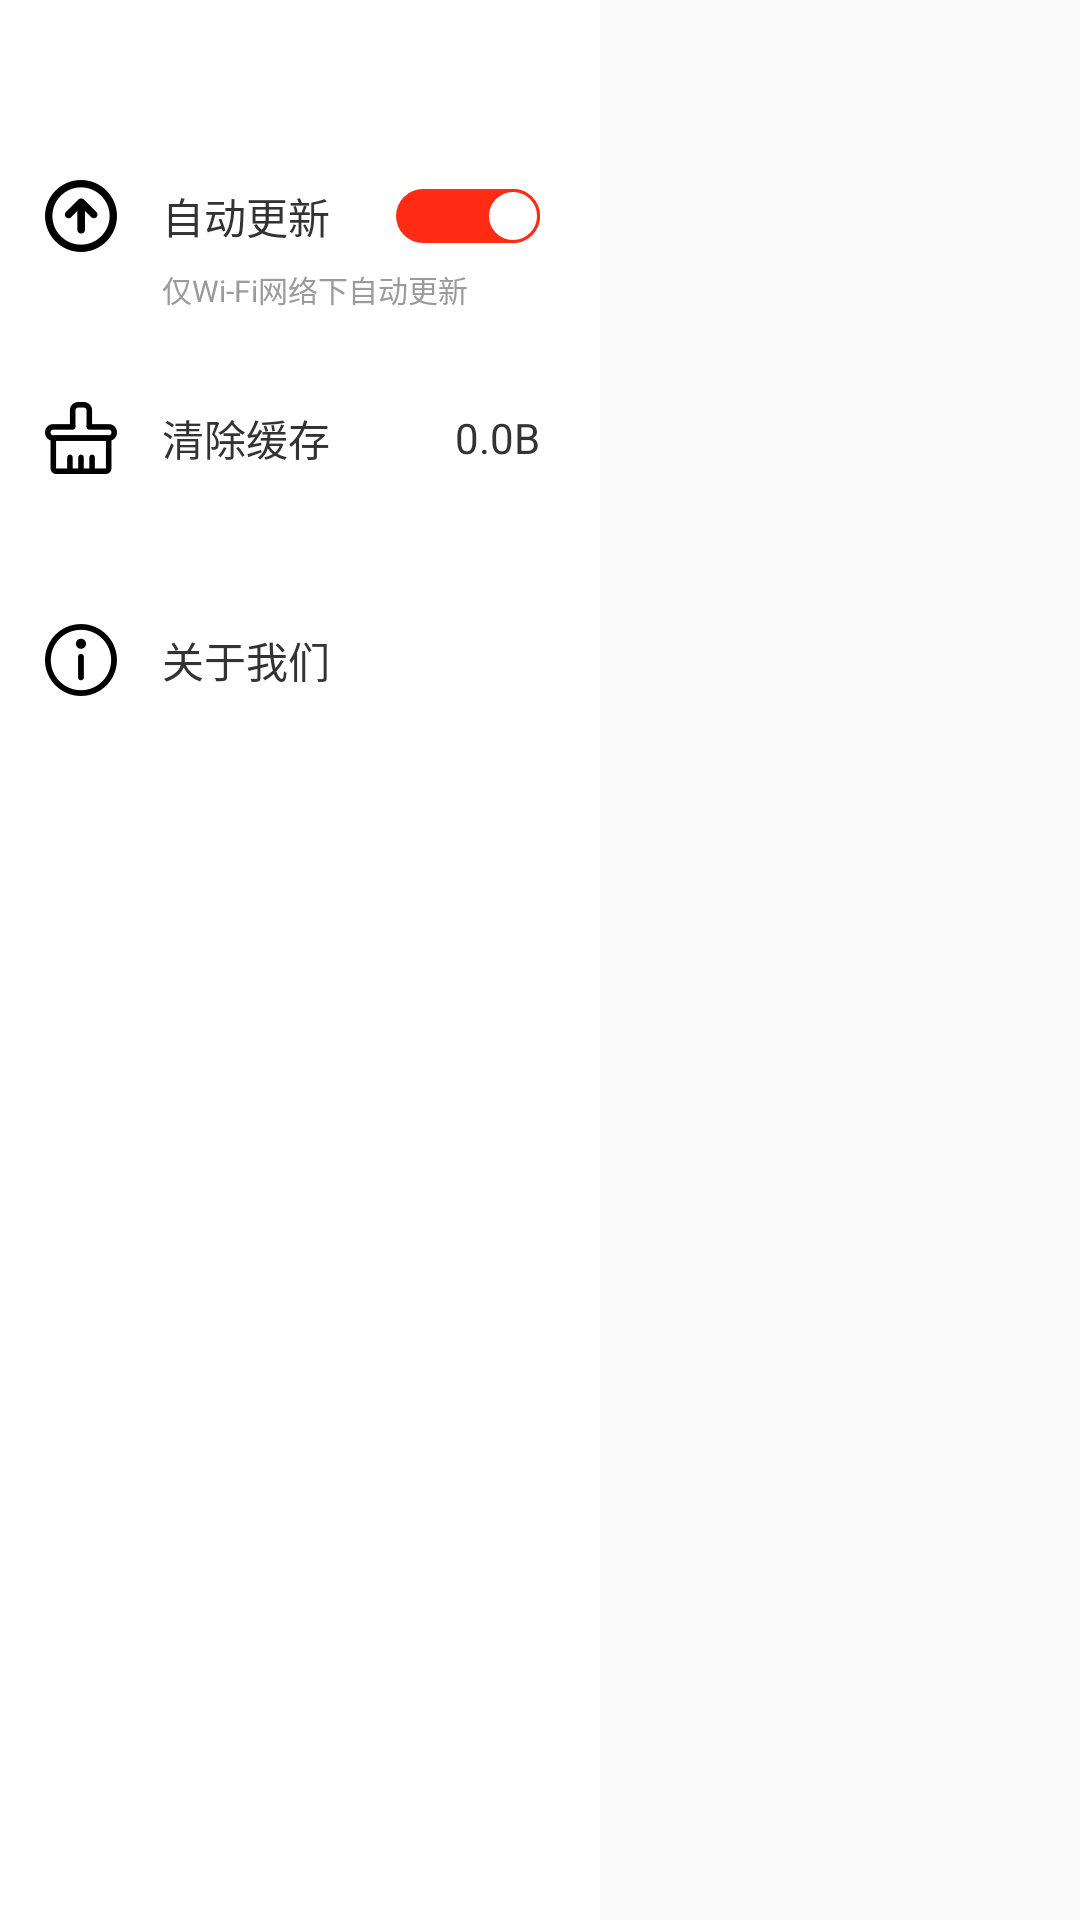

Icon bounding boxes for this 1080px×1920px phone screenshot, format bbox(x1, y1, x2, y2):
auto download: bbox(45, 180, 117, 252)
setting about us: bbox(45, 624, 117, 696)
setting clear cache: bbox(45, 402, 117, 474)
